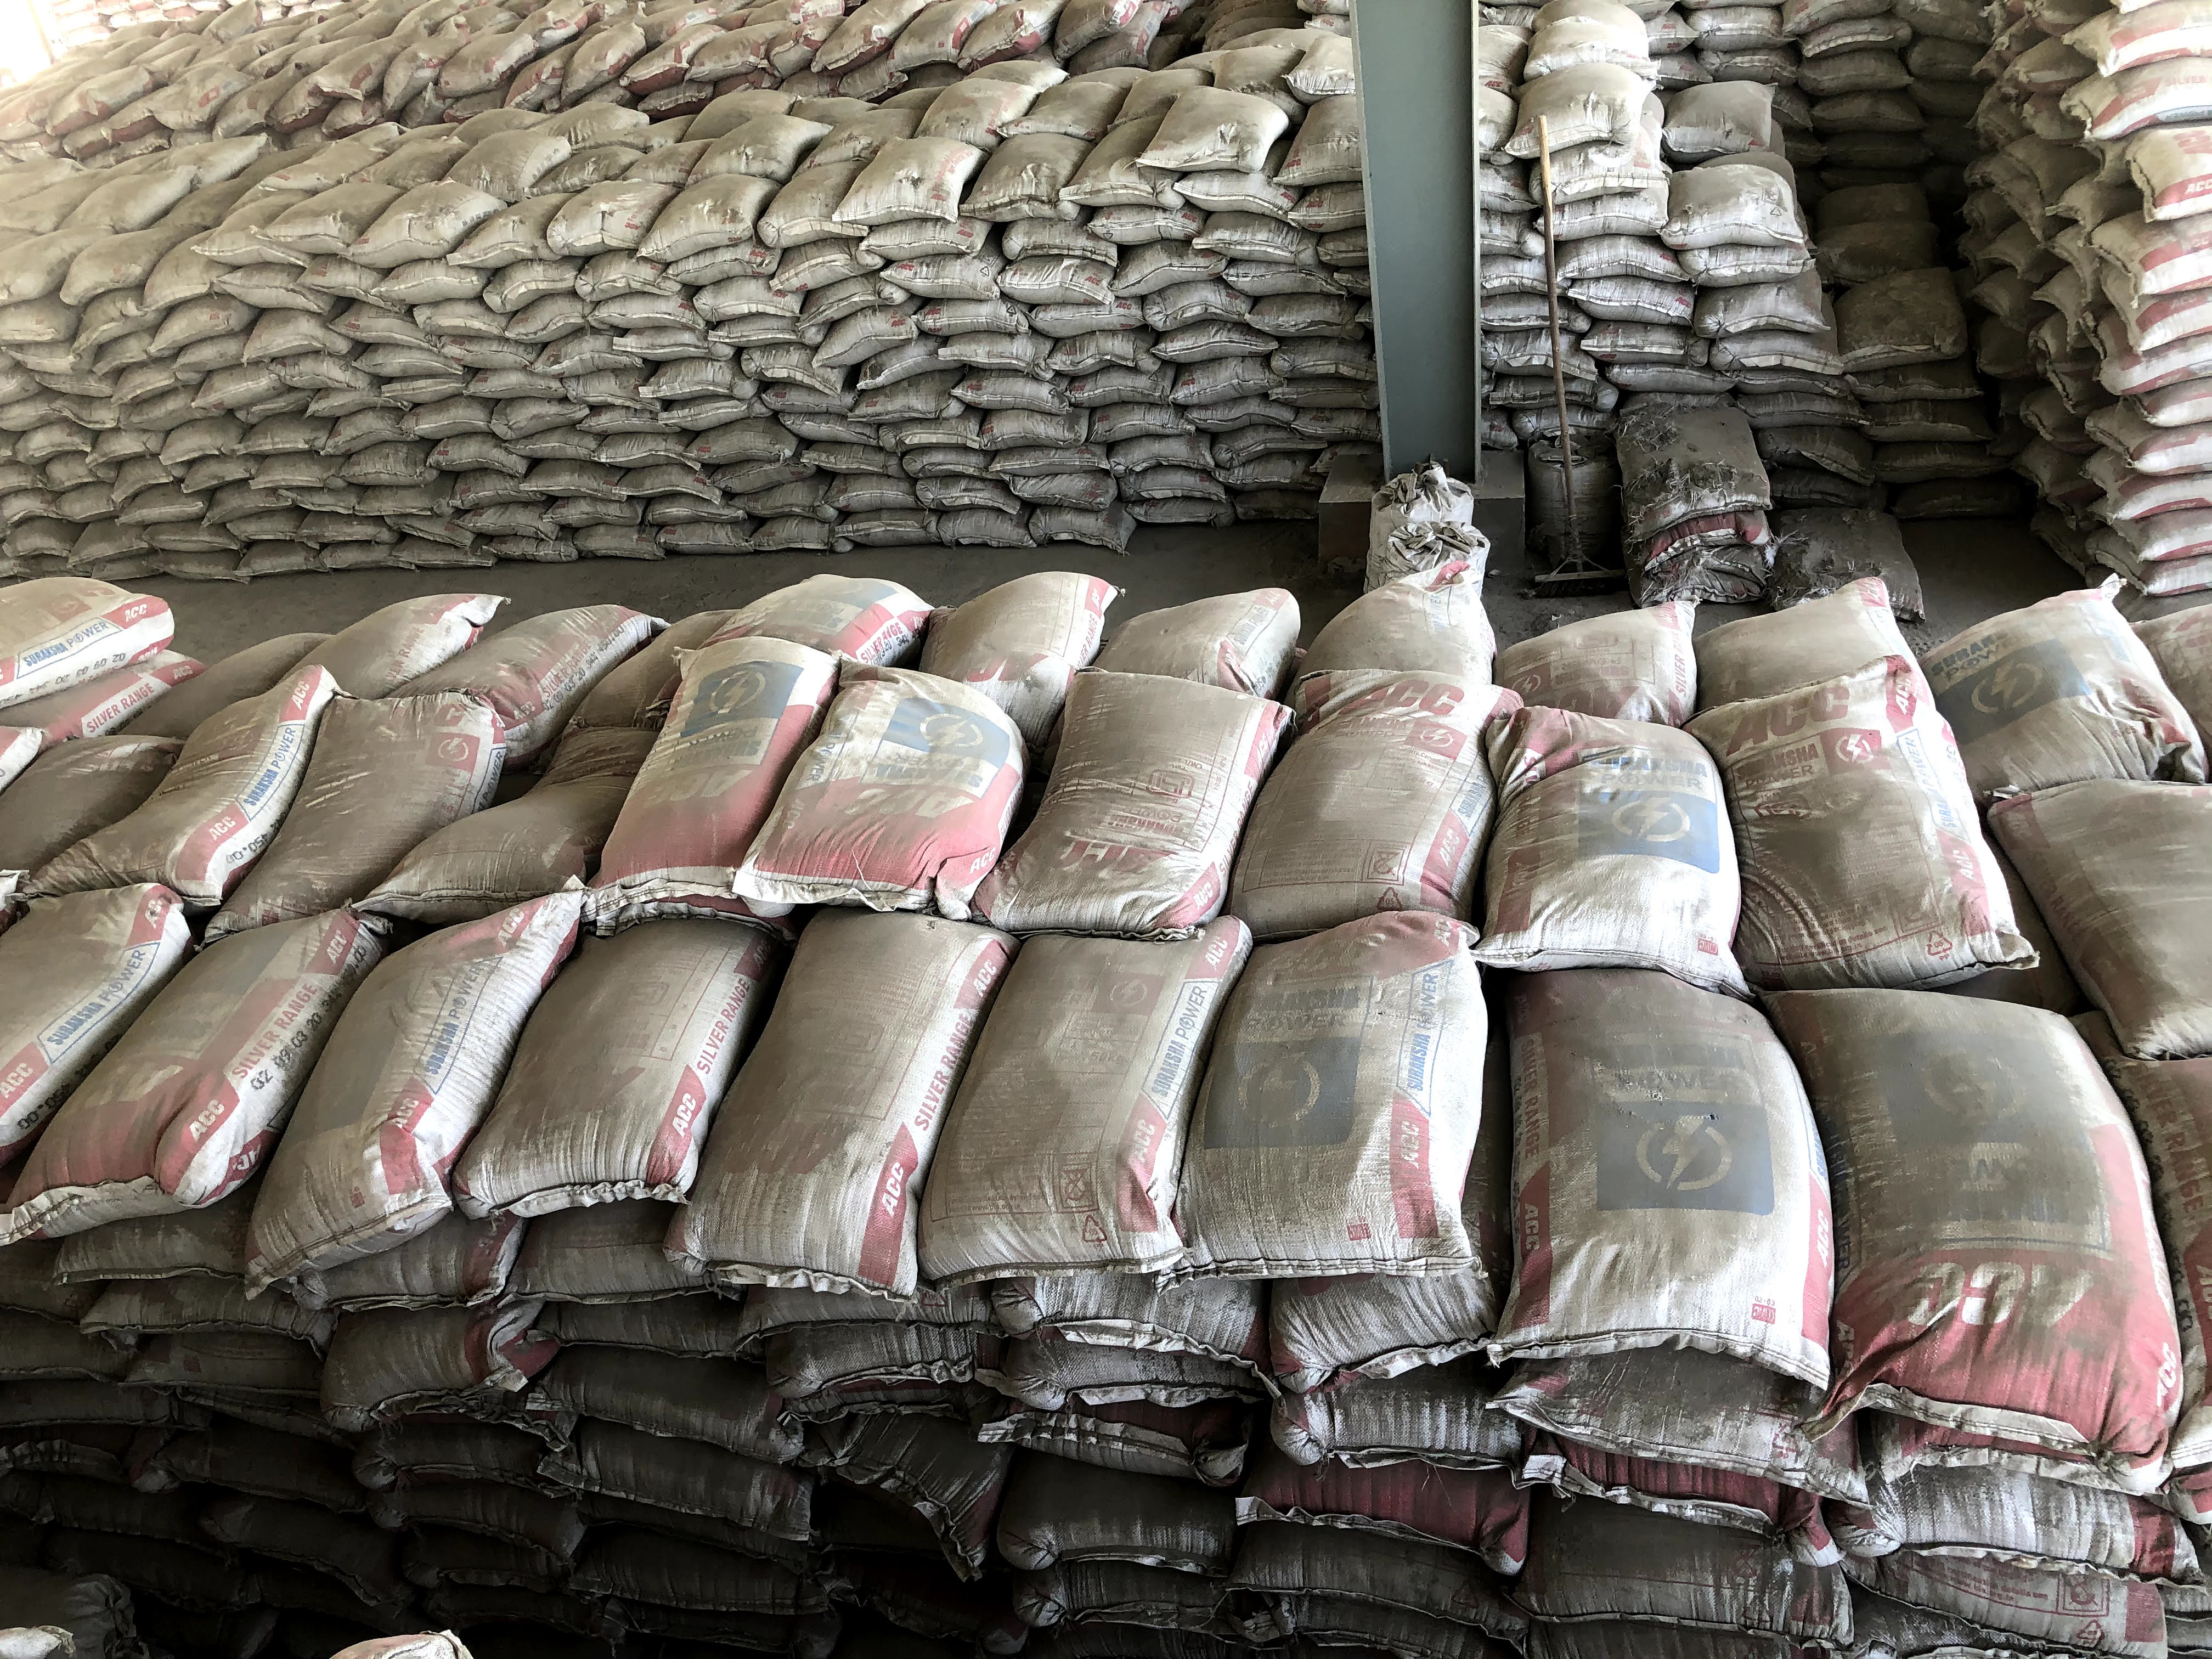cement bag: (1804, 979, 2172, 1448), (1252, 946, 1519, 1319), (1519, 979, 1804, 1319), (937, 946, 1252, 1248), (489, 908, 759, 1171), (78, 915, 354, 1171), (1733, 704, 2005, 941), (960, 660, 1275, 864), (1275, 660, 1494, 918), (759, 908, 899, 1277), (1494, 704, 1733, 918), (265, 685, 479, 915), (617, 627, 798, 852), (798, 627, 960, 864), (354, 915, 489, 1171), (726, 556, 928, 676), (479, 685, 592, 894), (160, 709, 265, 915), (1310, 594, 1508, 697), (1663, 603, 1905, 683), (928, 568, 1096, 676), (1508, 603, 1663, 697), (1122, 592, 1266, 690)
